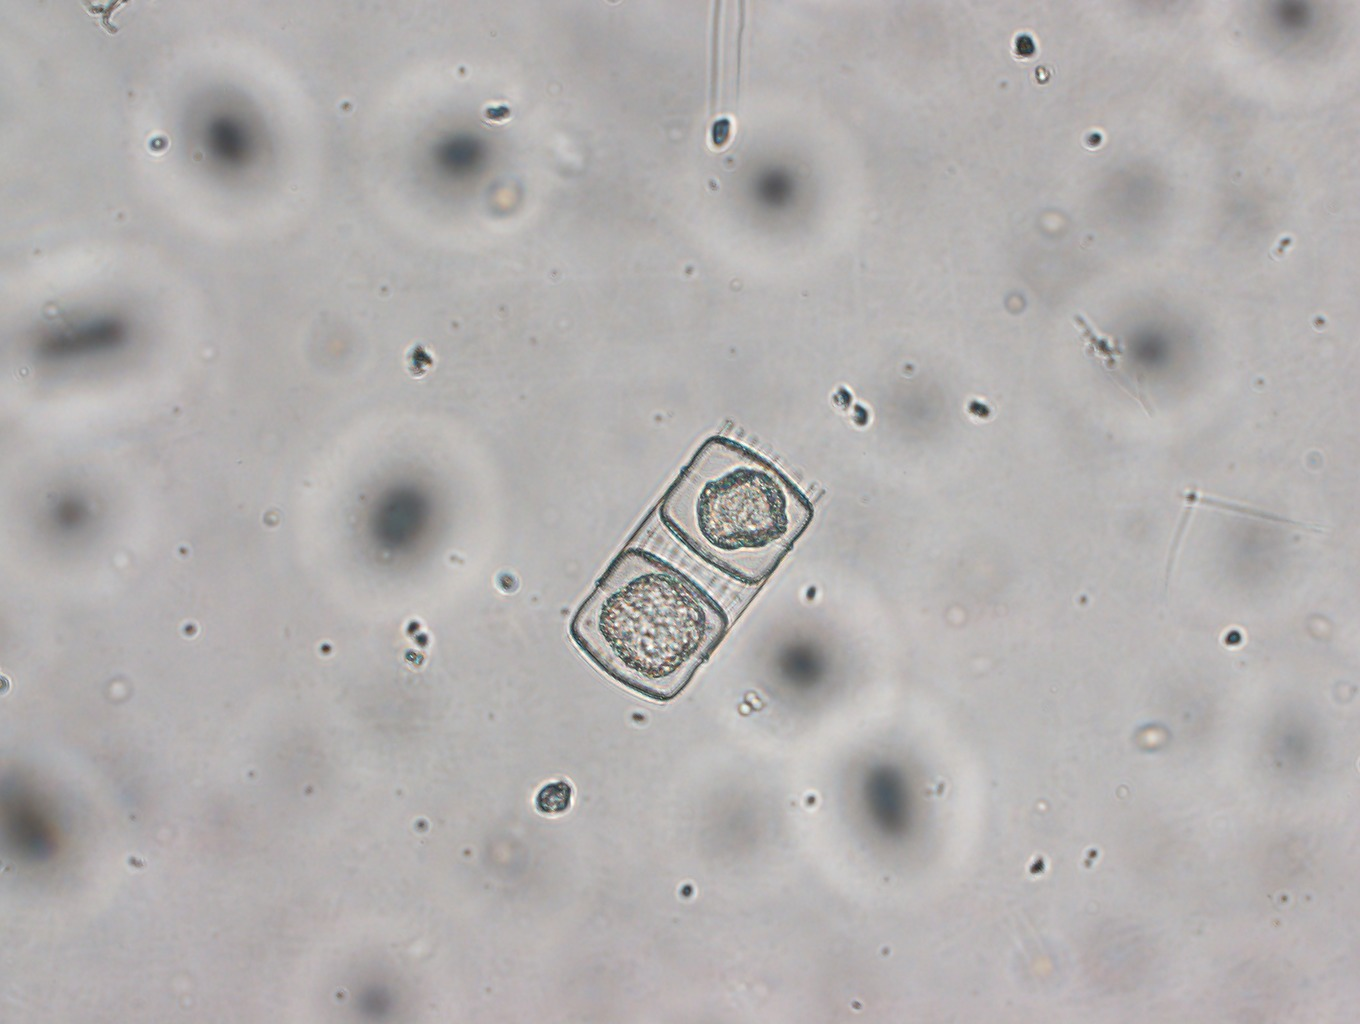corethron: (569, 419, 825, 702)
